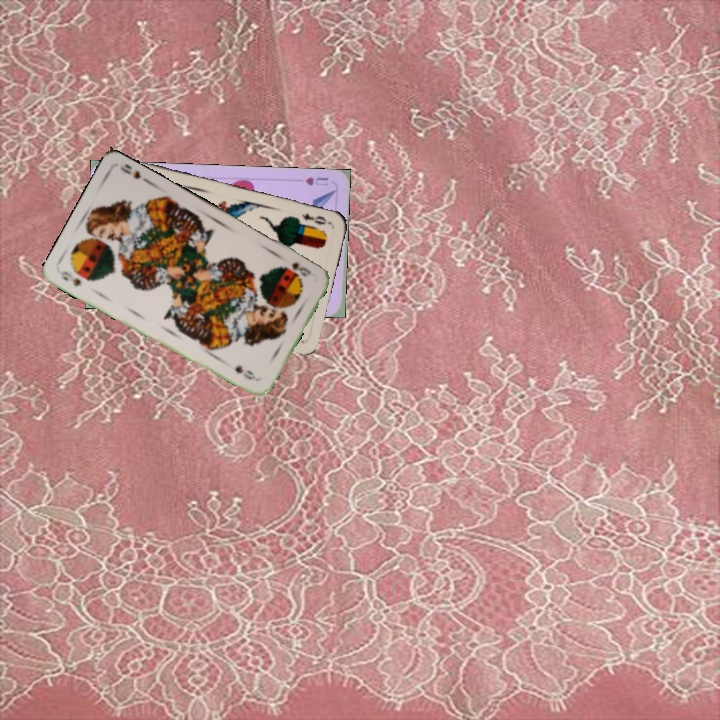EO: (298, 209, 333, 228)
HU: (302, 173, 331, 188)
SO: (281, 258, 314, 279), (56, 267, 84, 289)
